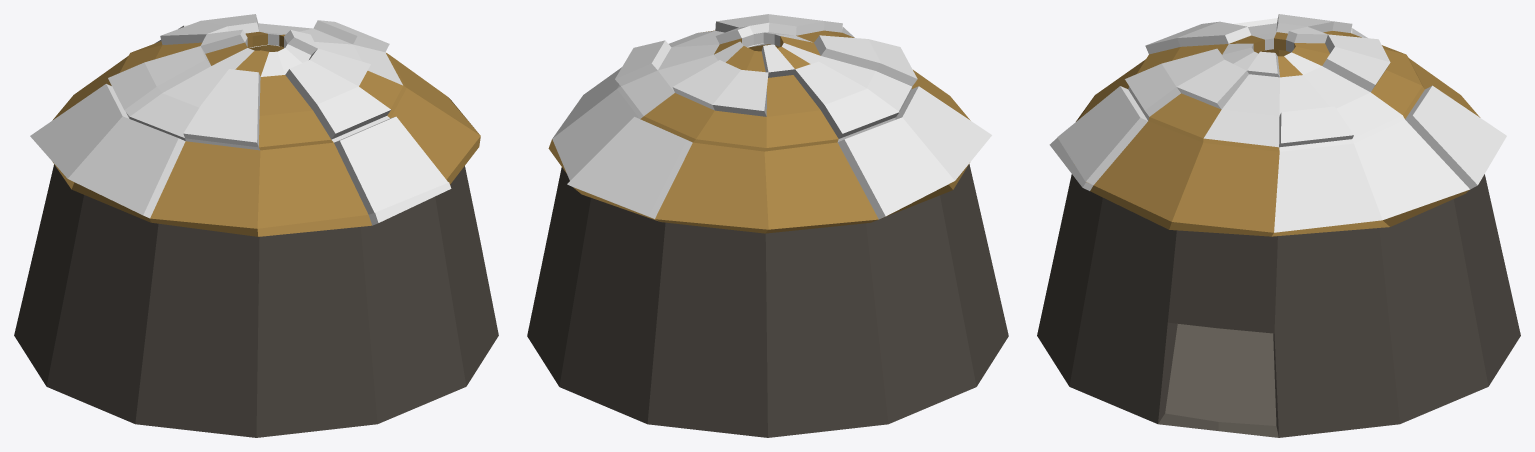
Rendered from forest_people_house_03.fbx.
The picture shows the model from 3 angles, left to right: view 1: azimuth 30°, elevation 25°; view 2: azimuth 150°, elevation 25°; view 3: azimuth 270°, elevation 25°; orthographic projection.
Parts seen in each view (by area): view 1: Cylinder; view 2: Cylinder; view 3: Cylinder.
Part boxes in pixels (x1,y1,x2,y2): Cylinder: (14,14,498,437); Cylinder: (527,14,1008,437); Cylinder: (1037,14,1520,437).
Bounding box in the file's own units: 382 × 261 × 382.
